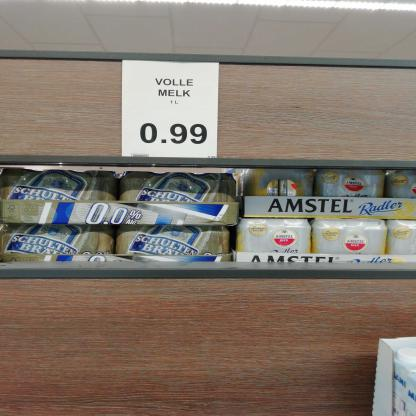prtg: (122, 61, 220, 160)
